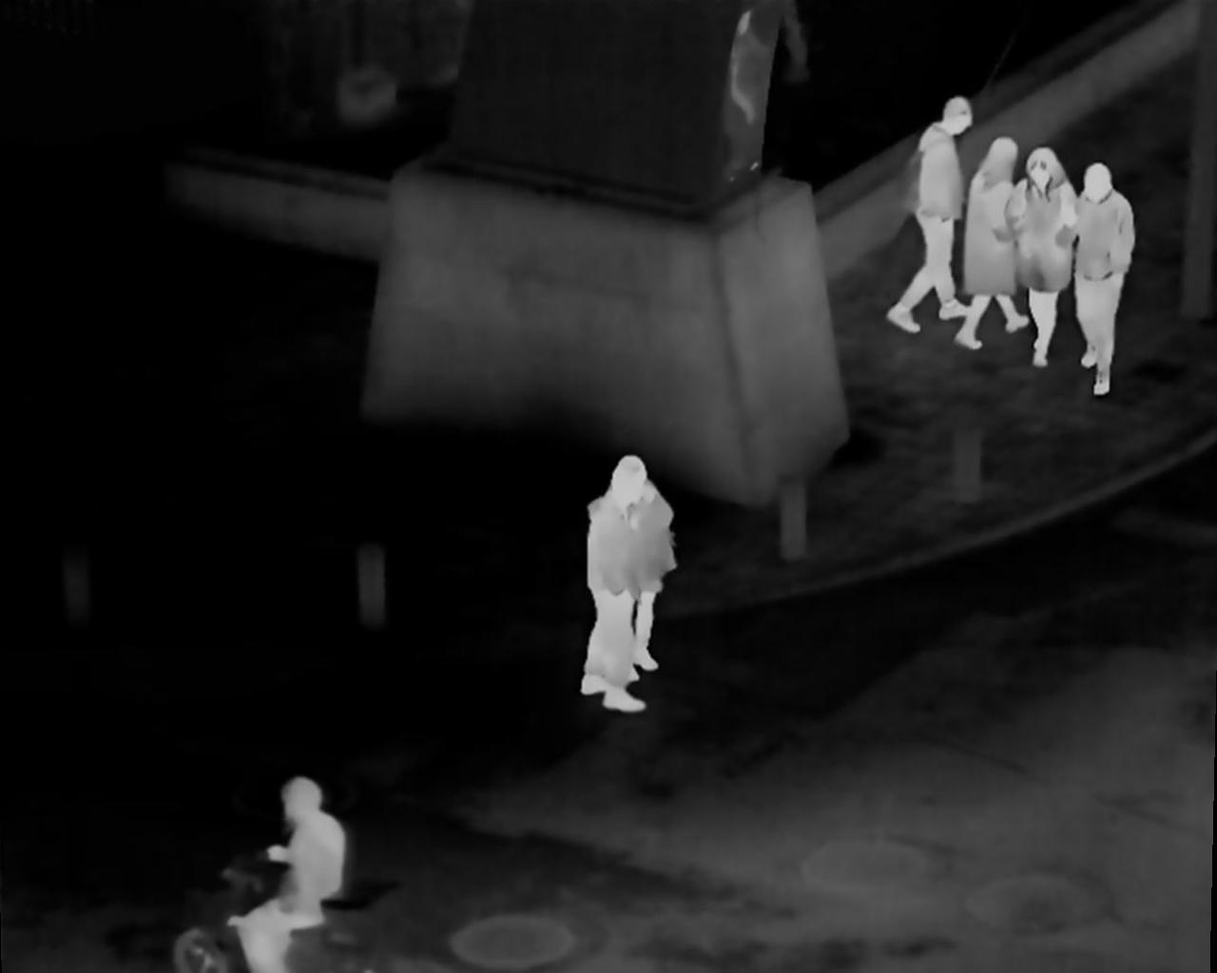person: (234, 784, 354, 973), (893, 100, 979, 338), (582, 452, 647, 722), (598, 462, 674, 677), (1080, 160, 1135, 399), (1011, 154, 1071, 369), (963, 139, 1016, 348)
